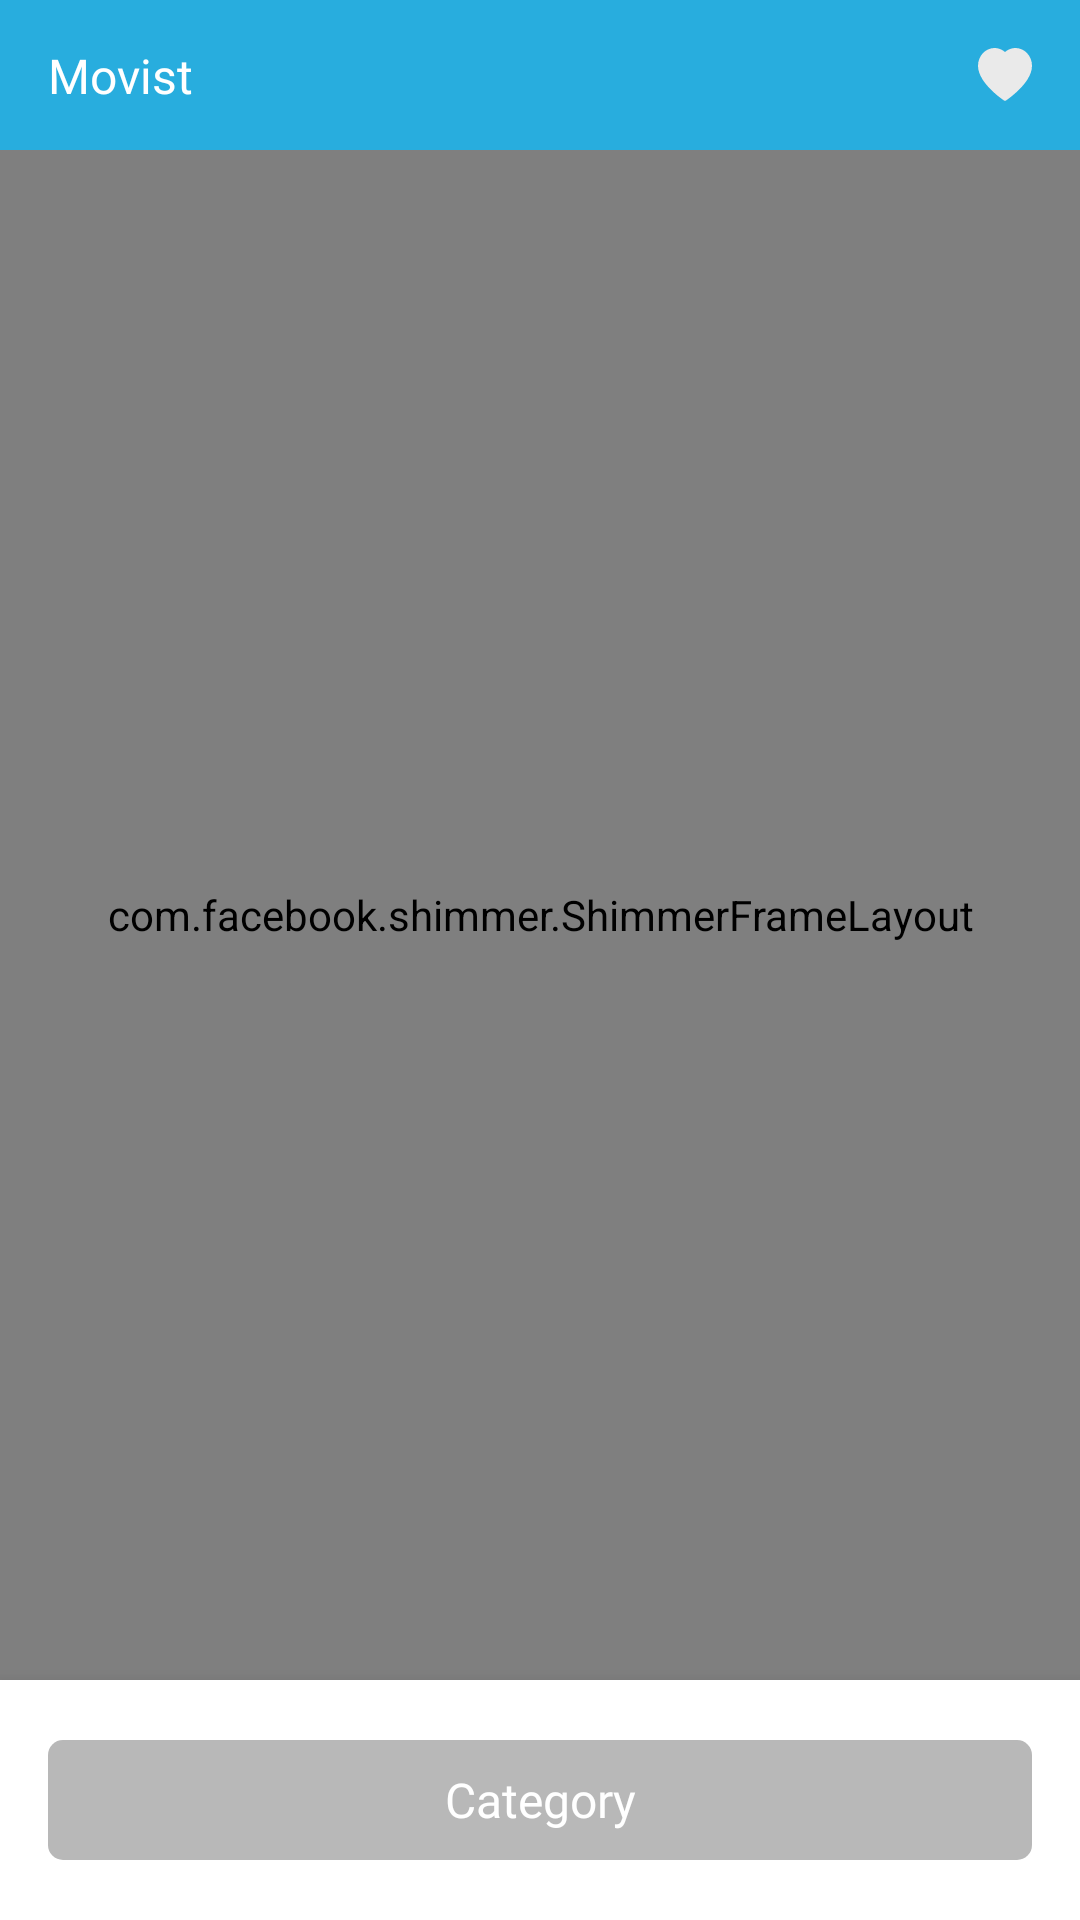

Point at icon controls on the screen. Image size 1080x1920, points as [x,y].
Button goto menu favorite movie: [1005,74]
